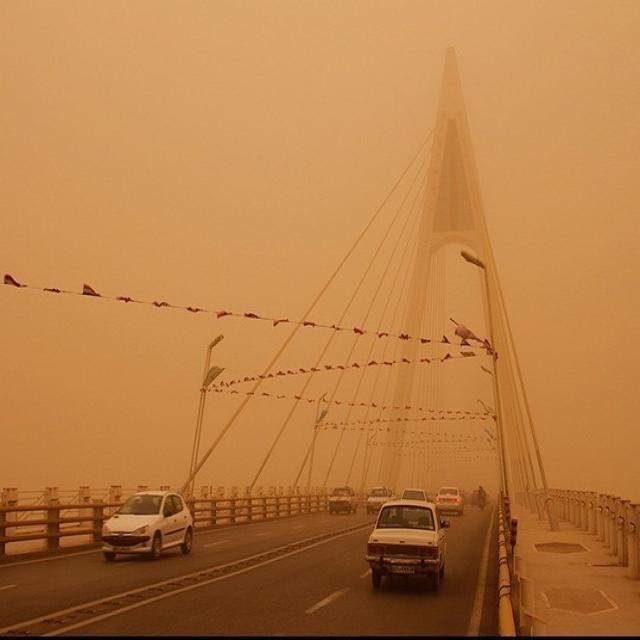car: (366, 500, 446, 591), (101, 490, 194, 561), (326, 485, 359, 513), (434, 486, 463, 515), (364, 486, 394, 512), (401, 485, 426, 504), (470, 486, 484, 505)
